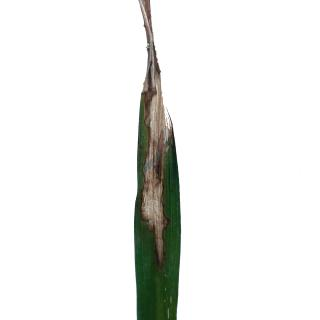Hawar-Daun: (135, 0, 182, 263)
